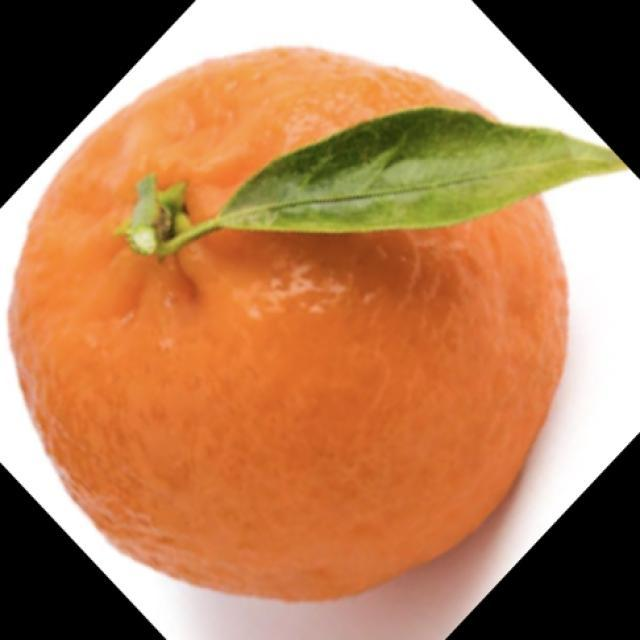Orange: (6, 44, 571, 603)
